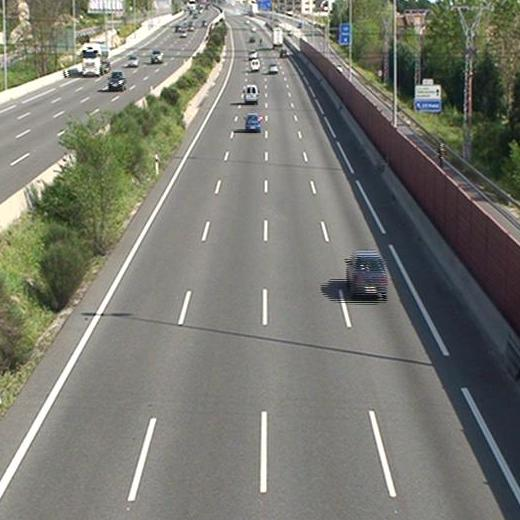car: (345, 251, 387, 295), (245, 113, 260, 129), (267, 63, 276, 73), (279, 48, 287, 58), (247, 50, 256, 58)
van: (244, 85, 258, 104), (250, 58, 260, 71)
